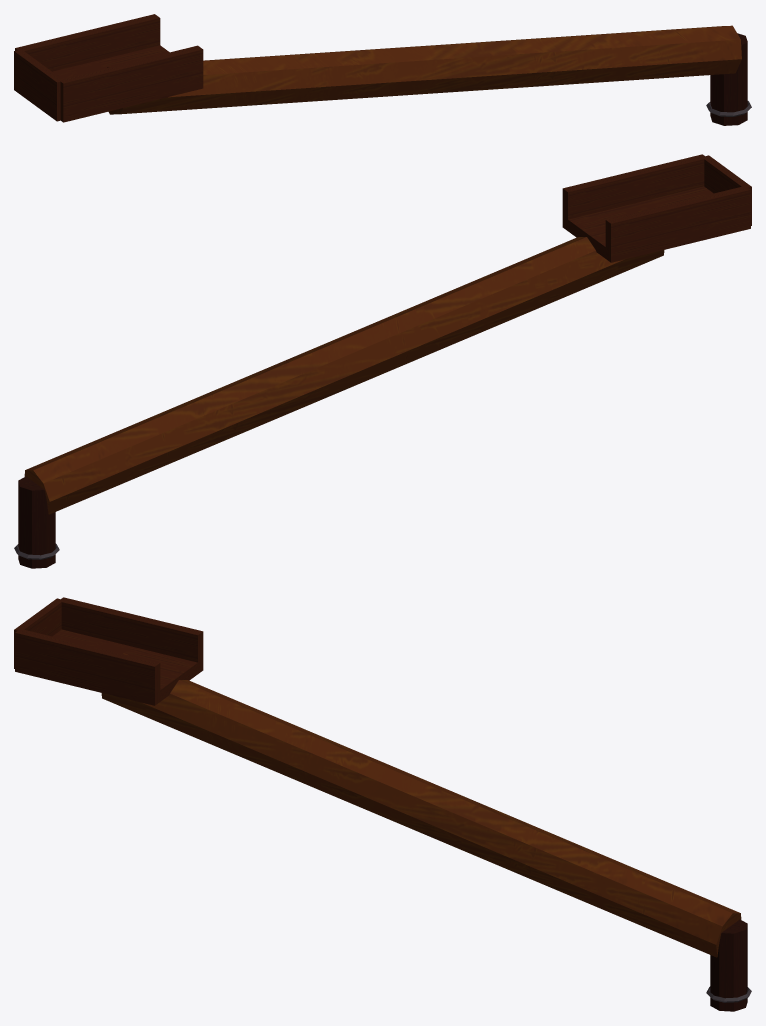
File: monjolo_beam.gltf
3 renders of one model, top to bottom at view 1: azimuth 30°, elevation 25°; view 2: azimuth 210°, elevation 25°; view 3: azimuth 330°, elevation 25°, orthographic.
Visible parts, largest first — view 1: monjolo_beam; view 2: monjolo_beam; view 3: monjolo_beam.
Part boxes in pixels (left/top/right/bottom): monjolo_beam: left=14, top=14, right=751, bottom=125; monjolo_beam: left=14, top=154, right=751, bottom=568; monjolo_beam: left=14, top=597, right=751, bottom=1011.
Size of the model in its own units: 3.83 by 1.13 by 0.45.
2 materials, 1 textured.
